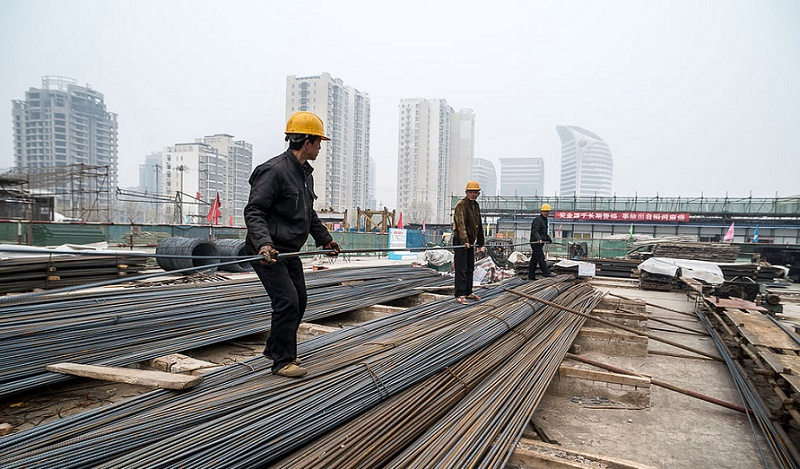hat: (278, 113, 335, 147), (461, 179, 482, 197), (537, 198, 552, 217)
